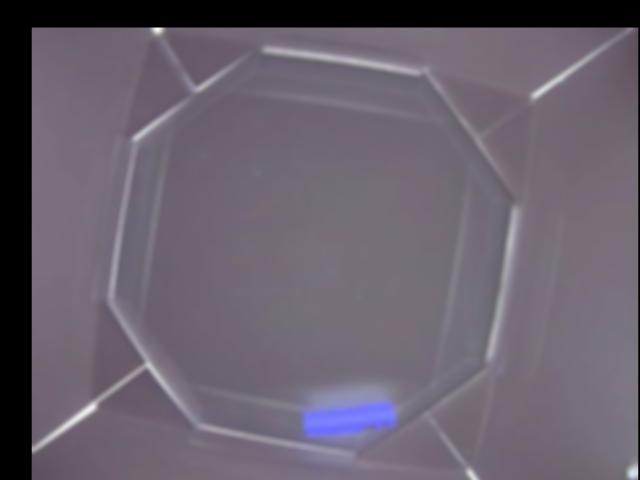Battery: (300, 400, 400, 436)
